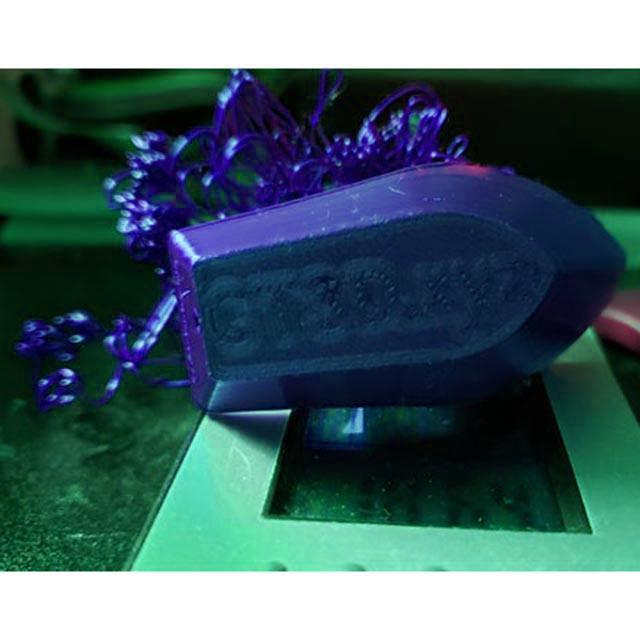Spaghetti: (102, 64, 470, 278), (14, 292, 195, 415)
